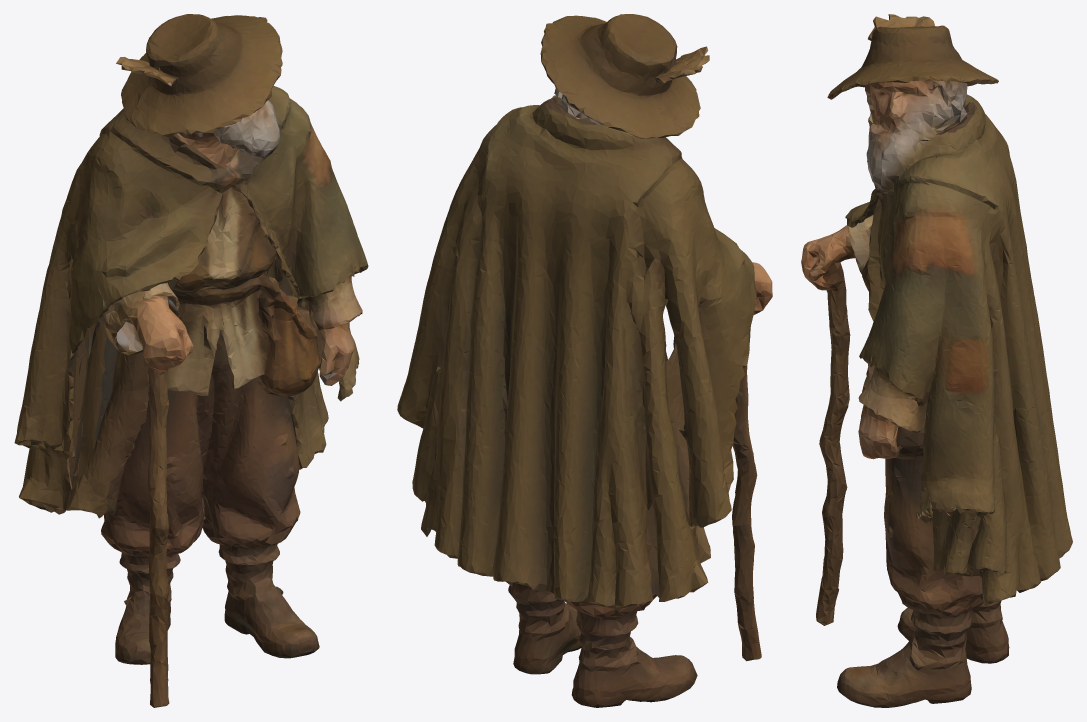
File: prop-villager_old.glb
3 views of the same model, side by side, from view 1: azimuth 30°, elevation 25°; view 2: azimuth 150°, elevation 25°; view 3: azimuth 270°, elevation 25° (orthographic). The views are drawn at different scales.
Visible parts, largest first — view 1: geometry_0; view 2: geometry_0; view 3: geometry_0.
Part boxes in pixels (box(x1,y1,x2,y2)): geometry_0: box(14, 14, 368, 707); geometry_0: box(397, 14, 772, 707); geometry_0: box(801, 14, 1072, 707).
Bounding box in the file's own units: 1.08 × 2 × 0.7701.
1 material, 1 textured.
